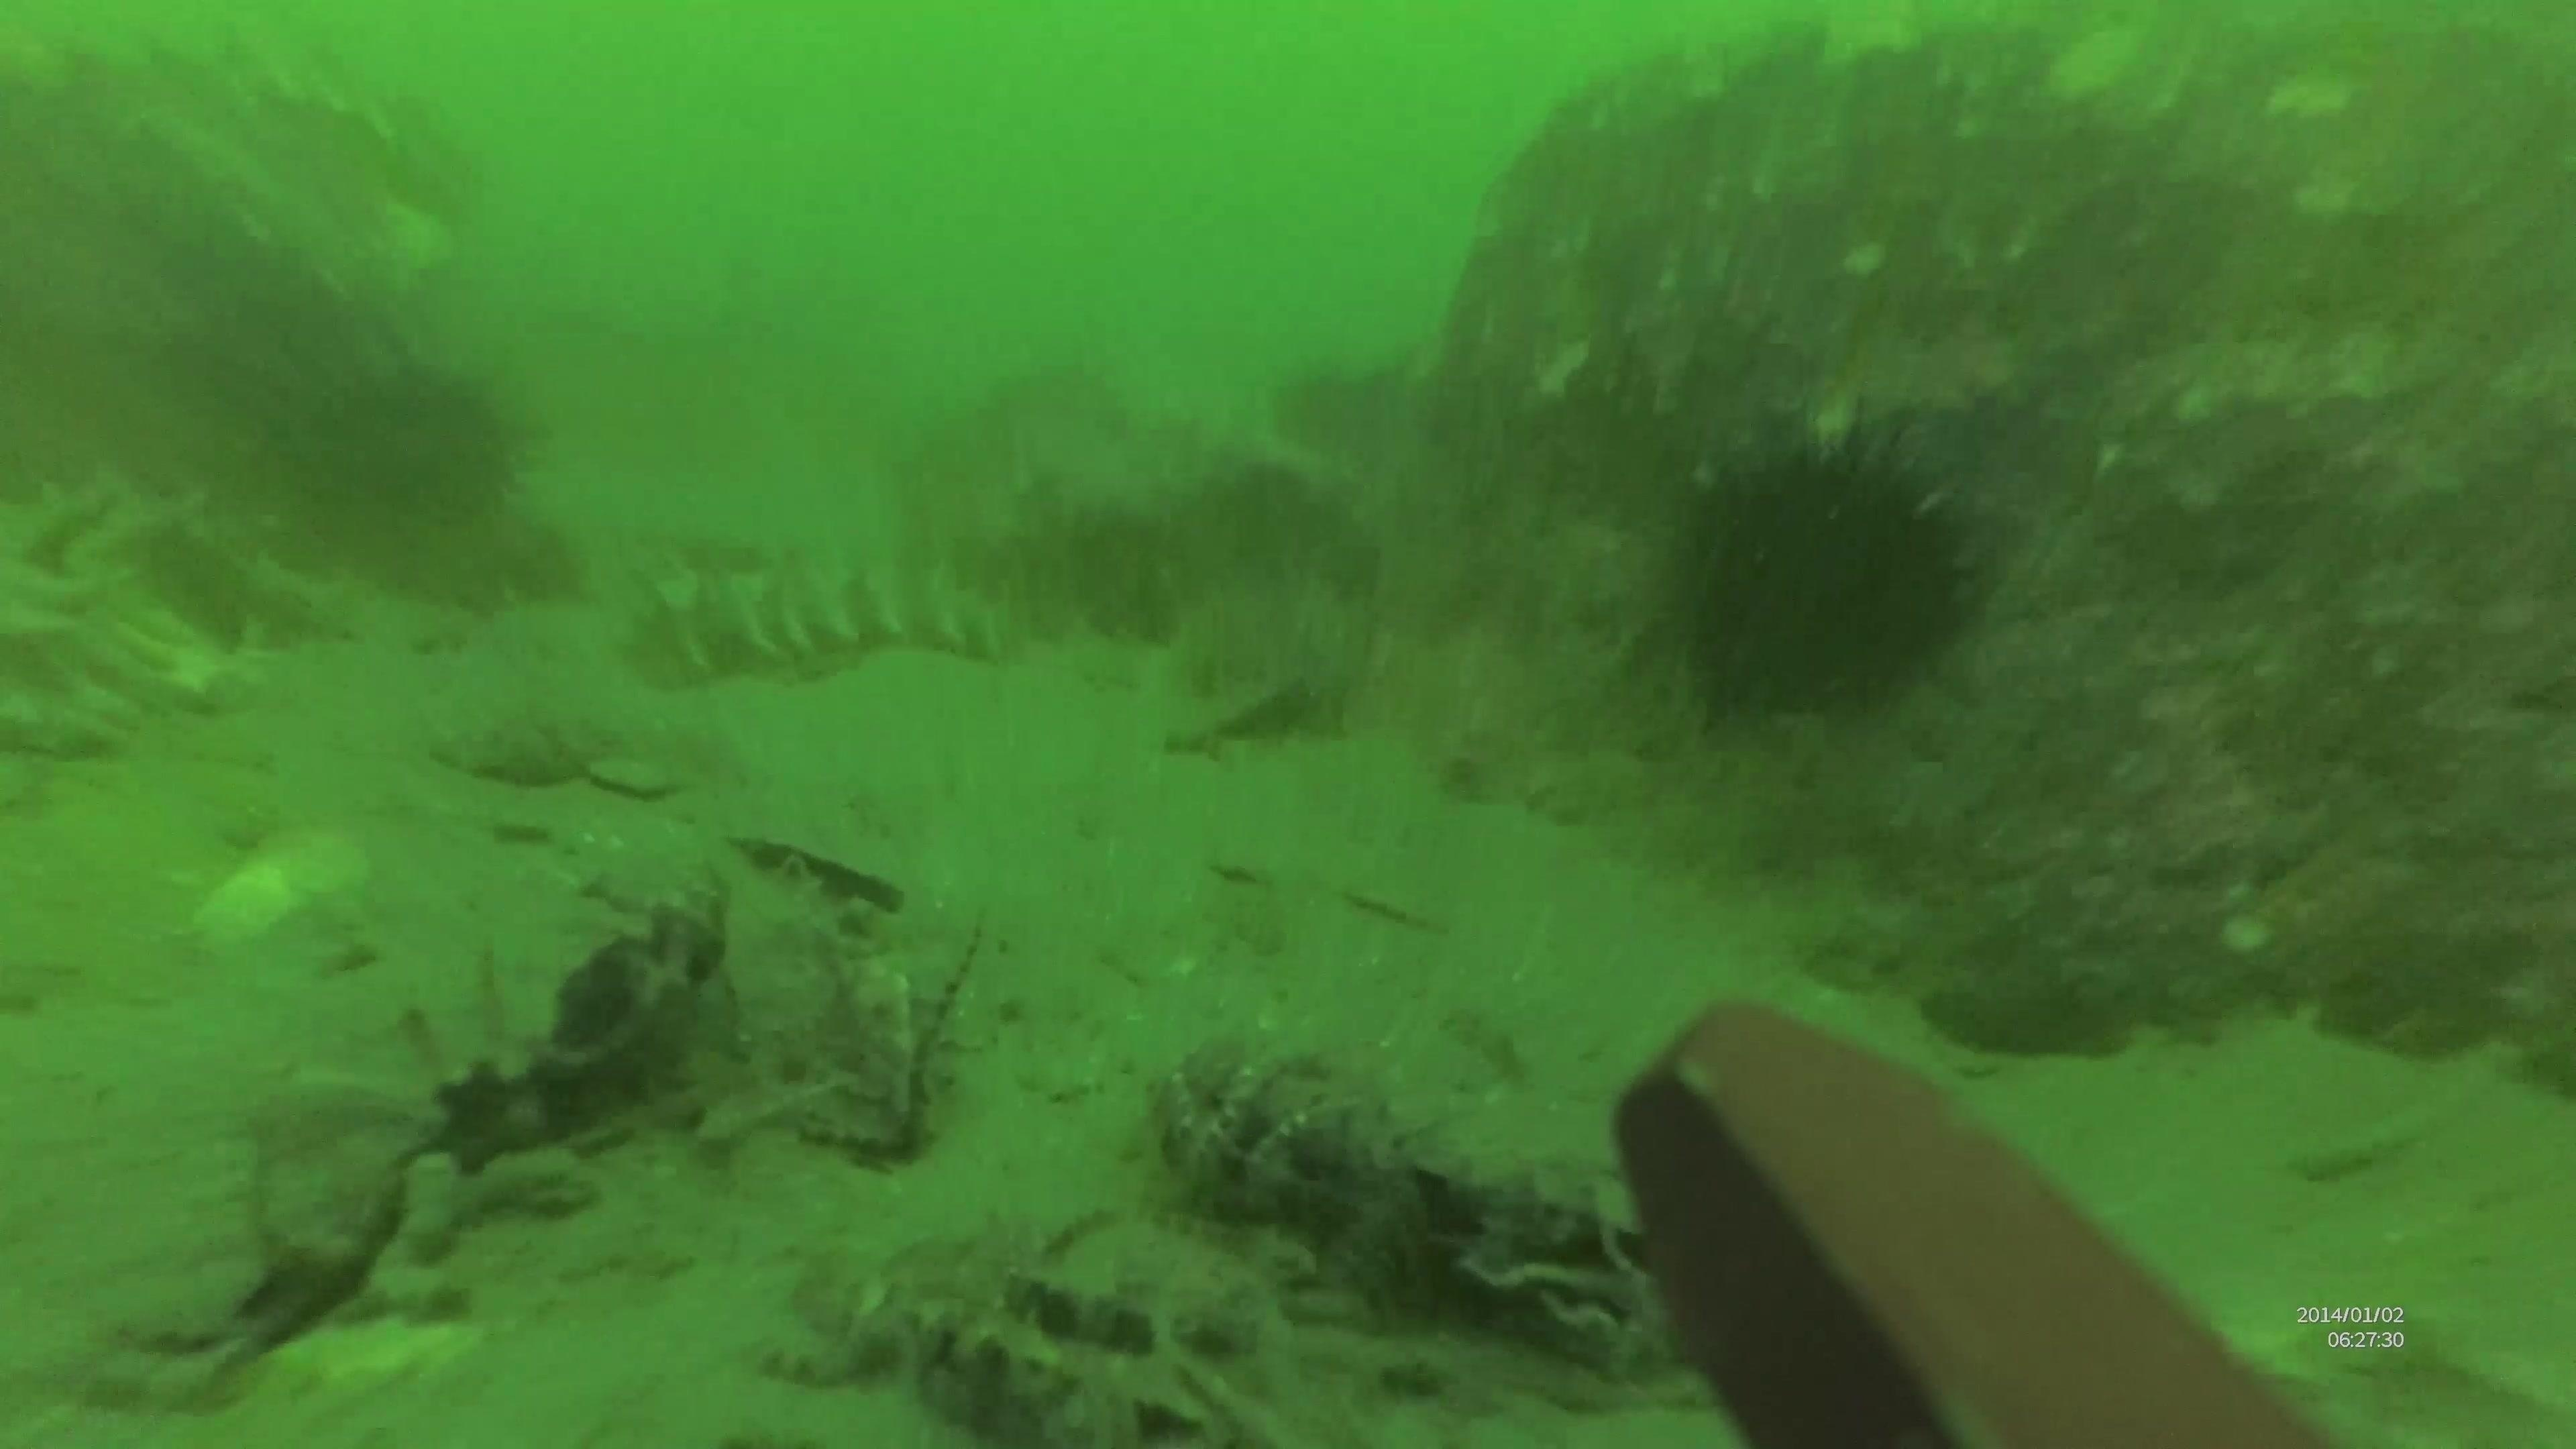echinus: (1642, 396, 1990, 732), (285, 345, 538, 545)
holothurian: (623, 541, 1024, 695), (0, 464, 186, 764)
scallop: (188, 824, 375, 968)
